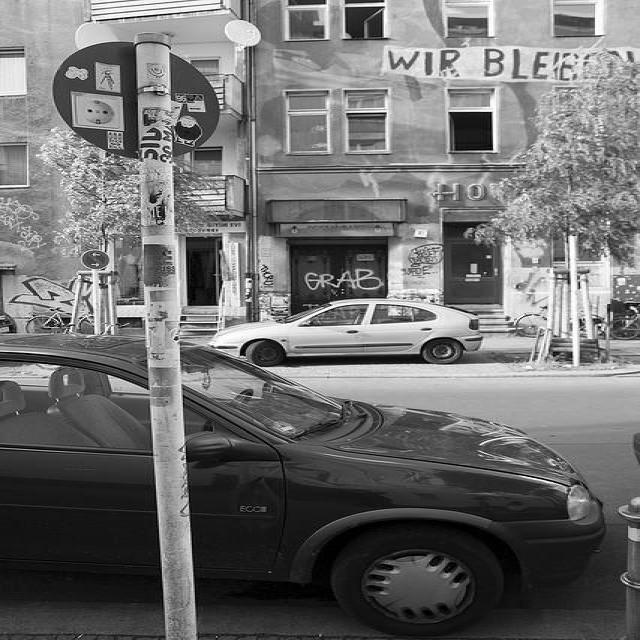vehicle: (2, 334, 604, 640), (207, 301, 487, 367)
